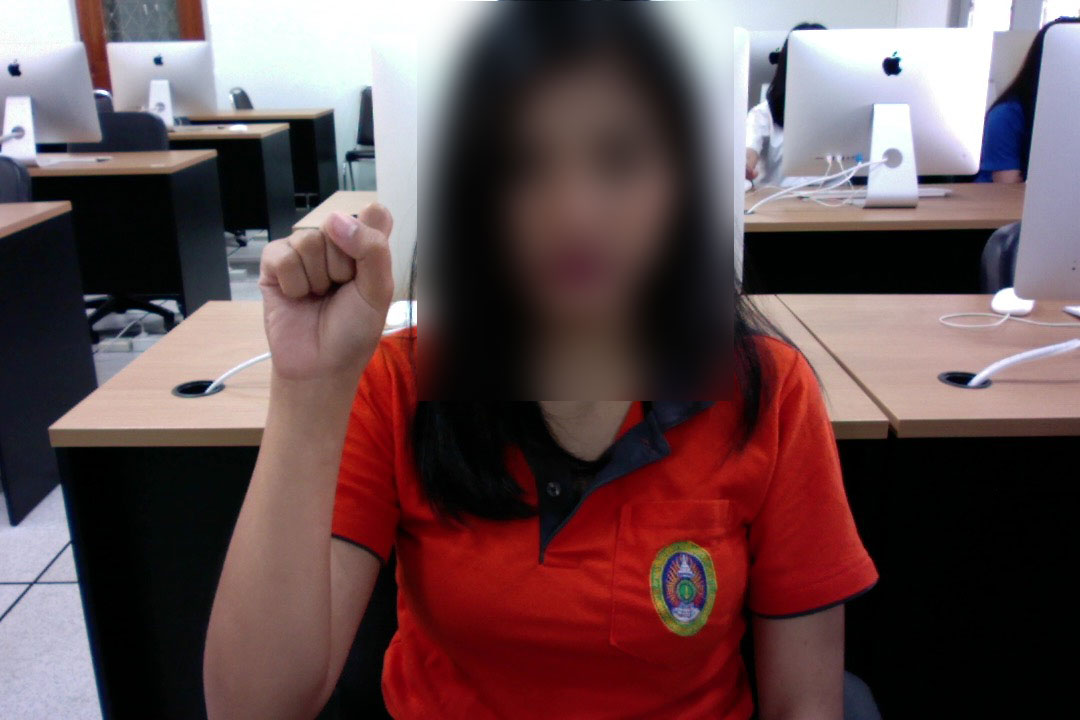sor: (251, 200, 401, 399)
